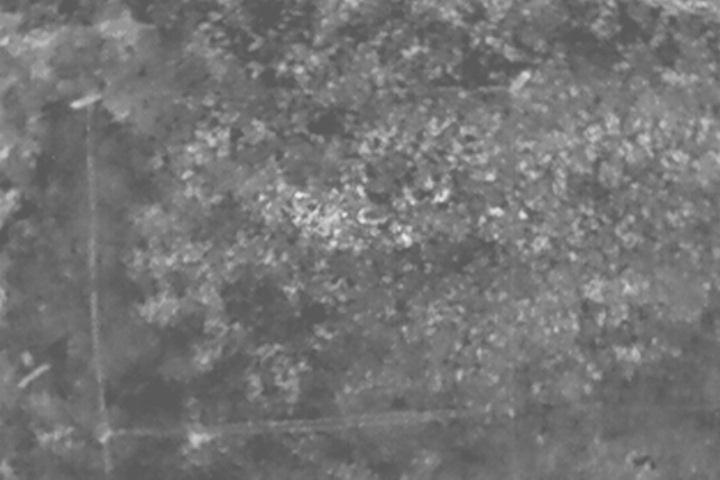landmine: (298, 201, 346, 244)
